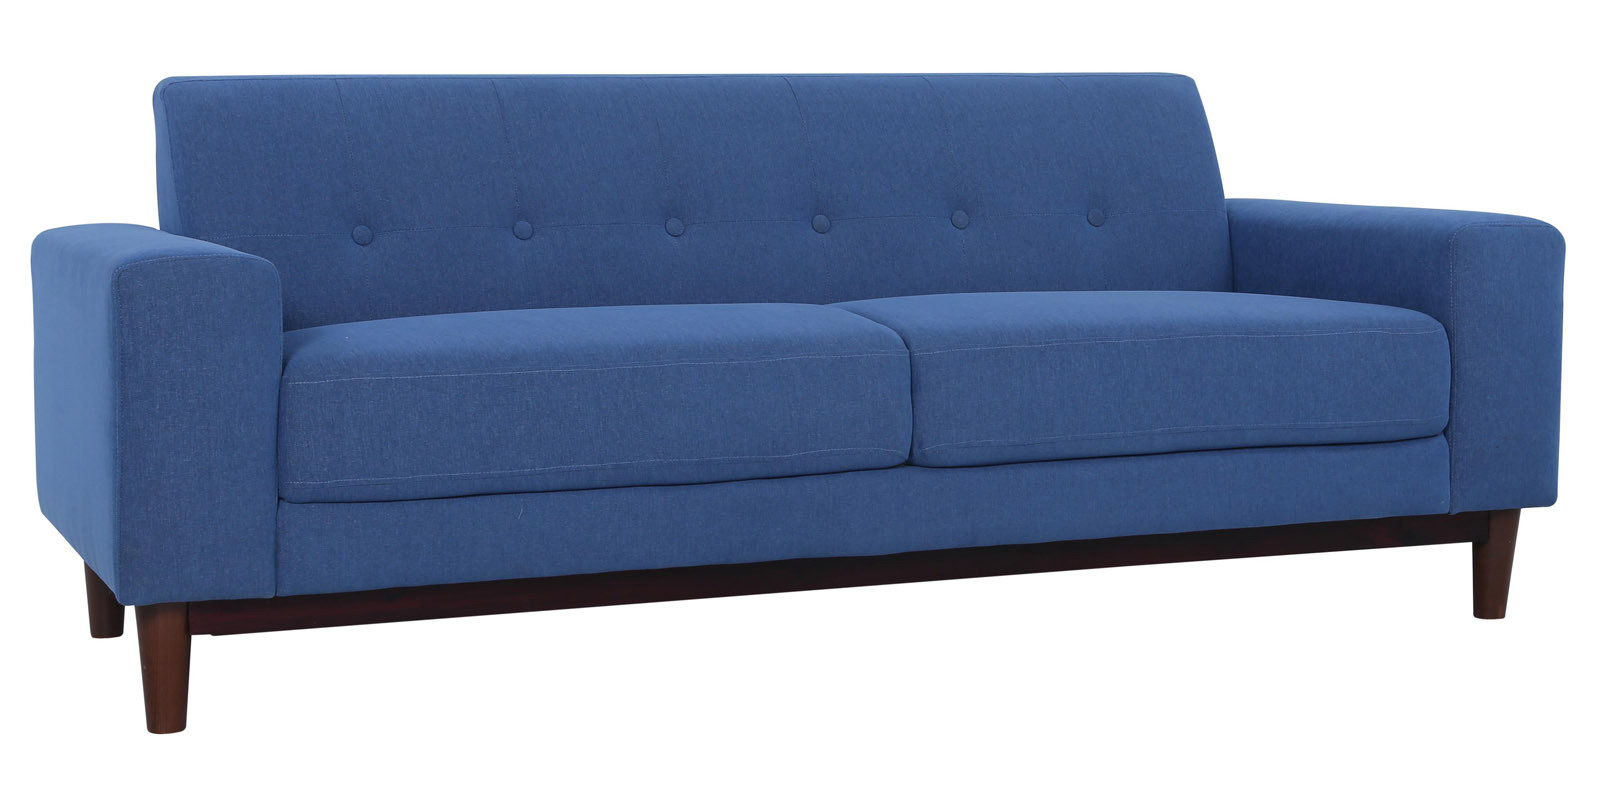Cordoba Three Seater Sofa in Denim Blue Colour by CasaCraft: (33, 76, 1580, 662)
